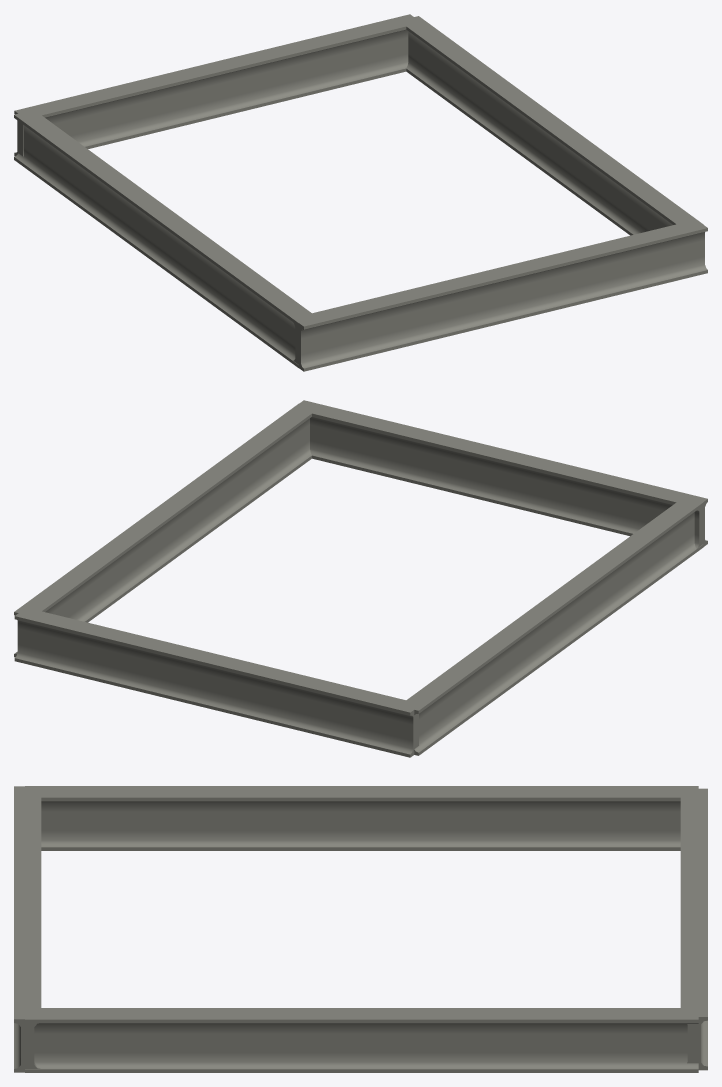
Rendered from metal_border_02.fbx.
The picture shows the model from 3 angles, top to bottom: view 1: azimuth 30°, elevation 25°; view 2: azimuth 150°, elevation 25°; view 3: azimuth 270°, elevation 25°; orthographic projection. The views are drawn at different scales.
Parts seen in each view (by area): view 1: metal_border_02; view 2: metal_border_02; view 3: metal_border_02.
Part boxes in pixels (x1,y1,x2,y2): metal_border_02: (14,14,707,371); metal_border_02: (14,400,707,757); metal_border_02: (14,786,707,1072).
Bounding box in the file's own units: 223 × 23.74 × 280.
